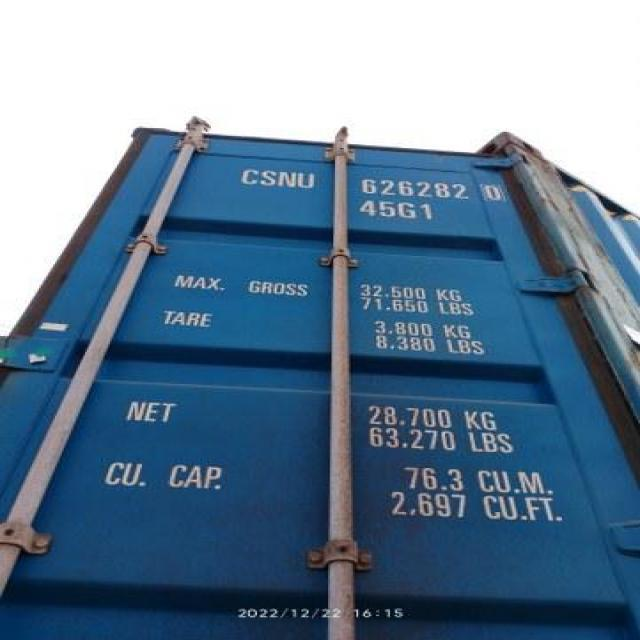ISO: (359, 201, 449, 229)
container_number: (237, 167, 504, 194)
